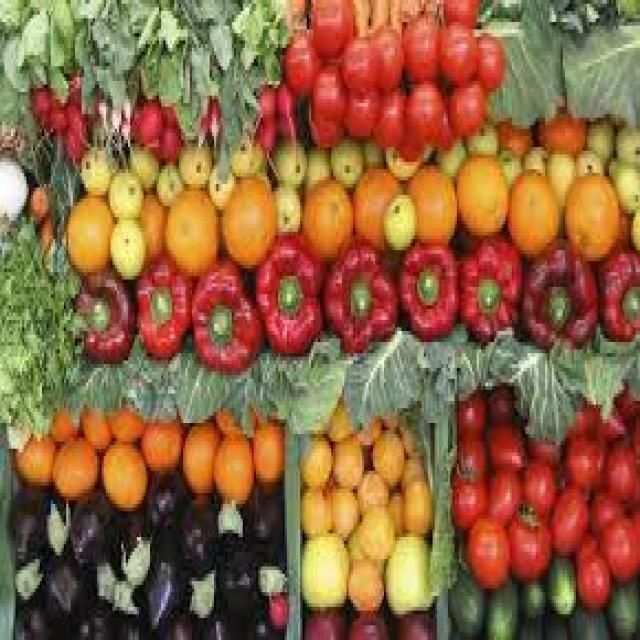organic waste: (0, 0, 638, 636), (22, 0, 287, 85), (0, 214, 82, 442), (486, 320, 578, 445), (479, 0, 563, 121), (558, 0, 638, 114), (320, 236, 395, 353), (249, 338, 342, 431), (252, 232, 320, 349), (523, 235, 596, 342), (549, 327, 638, 412), (346, 324, 422, 423), (188, 258, 258, 364), (457, 232, 521, 334), (132, 250, 192, 353), (397, 239, 457, 335), (421, 320, 479, 416), (71, 265, 128, 357), (161, 342, 223, 423), (121, 335, 186, 412), (560, 169, 616, 258), (430, 412, 457, 596), (220, 173, 274, 265), (161, 180, 216, 269), (216, 70, 256, 187), (141, 522, 181, 636), (563, 401, 622, 478), (594, 239, 638, 342), (42, 548, 95, 629), (508, 166, 558, 250), (404, 162, 454, 243), (300, 176, 351, 254), (452, 155, 506, 228), (217, 559, 270, 633), (353, 162, 400, 243), (0, 0, 29, 129), (384, 530, 428, 610), (99, 438, 148, 508), (64, 191, 110, 265), (300, 534, 347, 604), (463, 515, 508, 588), (506, 500, 548, 578), (450, 438, 486, 526), (210, 434, 252, 504), (598, 508, 638, 581), (249, 489, 285, 570), (280, 22, 316, 103), (66, 504, 115, 563), (73, 353, 124, 408), (51, 438, 97, 497), (177, 493, 214, 566), (448, 556, 481, 636), (548, 482, 590, 544), (181, 419, 216, 493), (11, 559, 44, 636), (309, 0, 355, 55), (346, 500, 391, 556), (604, 434, 638, 508), (9, 489, 44, 559), (572, 541, 609, 607), (444, 74, 483, 136), (309, 59, 342, 132), (6, 434, 51, 486), (80, 563, 112, 636), (137, 419, 181, 471), (119, 508, 150, 581), (227, 118, 267, 173), (212, 497, 247, 559), (485, 459, 521, 518), (218, 368, 250, 434), (252, 416, 282, 486), (252, 489, 282, 559), (521, 456, 554, 519), (366, 22, 399, 85), (371, 81, 402, 147), (368, 426, 402, 486), (404, 81, 441, 136), (104, 162, 141, 217), (484, 574, 516, 636), (602, 581, 638, 636), (298, 426, 331, 486), (108, 217, 144, 272), (340, 30, 373, 89), (474, 30, 506, 89), (486, 416, 525, 464), (344, 555, 380, 607), (137, 188, 165, 254), (327, 478, 358, 537), (174, 59, 199, 132), (448, 382, 486, 430), (0, 154, 26, 224), (534, 110, 583, 147), (382, 192, 415, 246), (329, 430, 360, 486), (269, 180, 300, 236), (578, 114, 614, 162), (77, 144, 113, 192), (128, 95, 163, 144), (543, 147, 574, 202), (527, 431, 563, 478), (399, 471, 426, 533), (607, 154, 638, 206), (271, 132, 307, 176), (329, 132, 362, 180), (126, 140, 159, 188), (177, 132, 210, 180), (110, 578, 137, 636), (278, 81, 298, 158), (203, 154, 232, 206), (340, 89, 375, 132), (589, 489, 620, 537), (183, 566, 214, 614), (148, 474, 179, 522), (545, 563, 574, 614), (300, 486, 329, 537), (62, 100, 88, 154), (298, 607, 346, 636), (95, 99, 128, 140), (155, 154, 183, 202), (484, 379, 516, 419), (388, 607, 432, 636), (572, 522, 598, 570), (254, 85, 274, 147), (44, 496, 66, 552), (356, 463, 386, 504), (346, 607, 388, 636), (567, 604, 605, 636), (26, 81, 51, 129), (302, 140, 334, 177), (243, 604, 278, 636), (386, 140, 419, 173), (611, 118, 638, 158), (435, 136, 461, 177), (263, 585, 287, 629), (214, 405, 256, 430), (106, 408, 141, 438), (82, 408, 110, 445), (164, 604, 196, 636), (432, 96, 452, 147), (466, 118, 494, 154), (324, 401, 351, 438), (393, 419, 415, 464), (494, 114, 532, 140), (496, 144, 518, 188), (194, 604, 223, 636), (49, 405, 80, 434), (518, 574, 540, 614), (156, 125, 178, 162), (357, 136, 382, 166), (254, 559, 282, 585), (616, 394, 638, 426), (402, 445, 424, 475), (570, 147, 600, 169), (353, 416, 377, 441), (516, 614, 543, 636), (543, 607, 563, 636), (46, 99, 64, 129), (523, 144, 547, 166), (395, 132, 419, 154), (156, 99, 176, 125), (618, 206, 631, 243), (629, 199, 638, 250), (29, 184, 44, 213), (66, 66, 80, 96), (194, 106, 205, 144), (35, 213, 51, 239), (208, 92, 216, 143), (417, 132, 430, 151)
